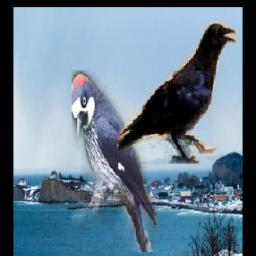Crow: (117, 21, 237, 164)
Woodpecker: (72, 71, 158, 253)
